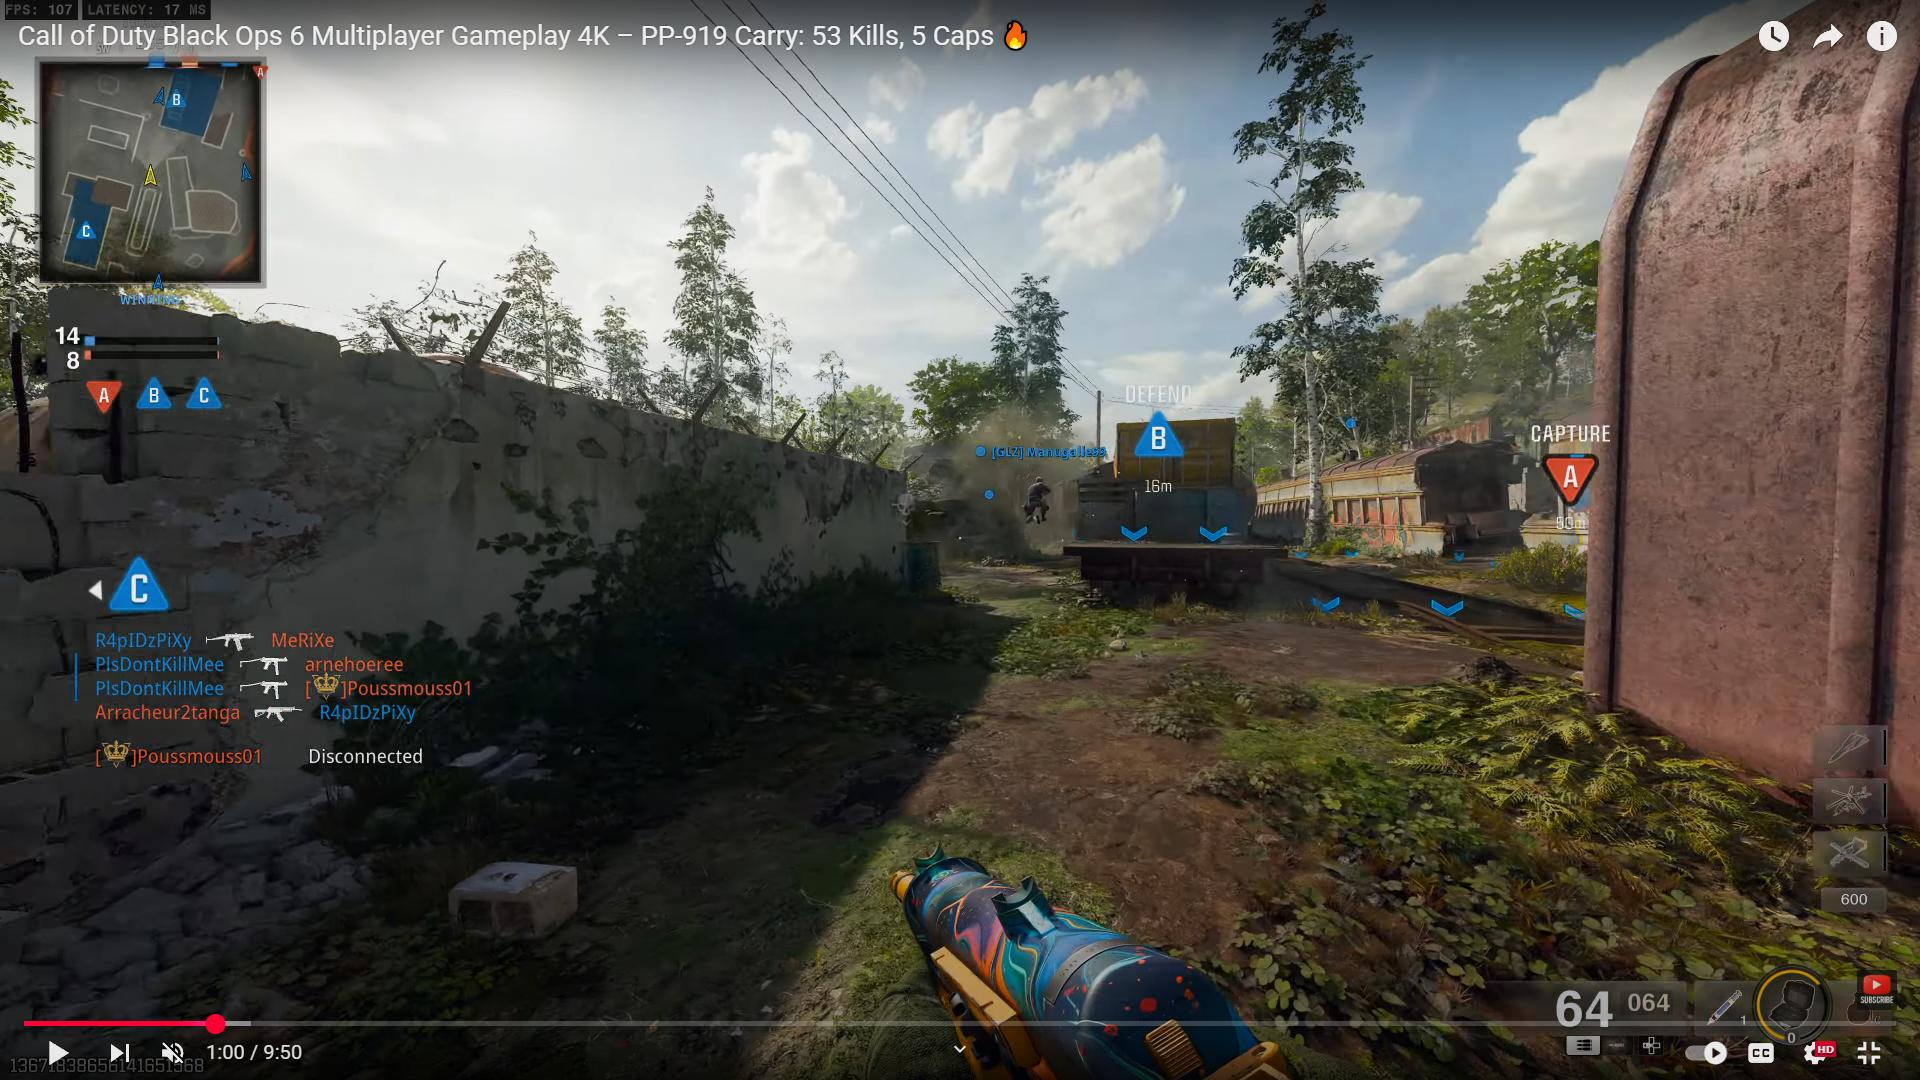Enemy: (1017, 469, 1058, 526)
